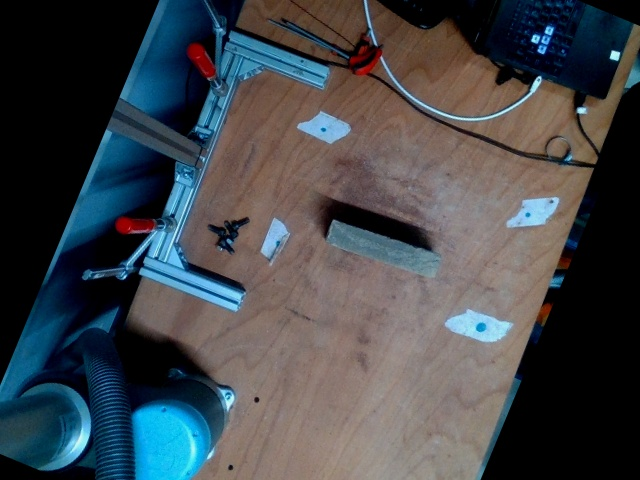brick-side: (324, 221, 439, 274)
